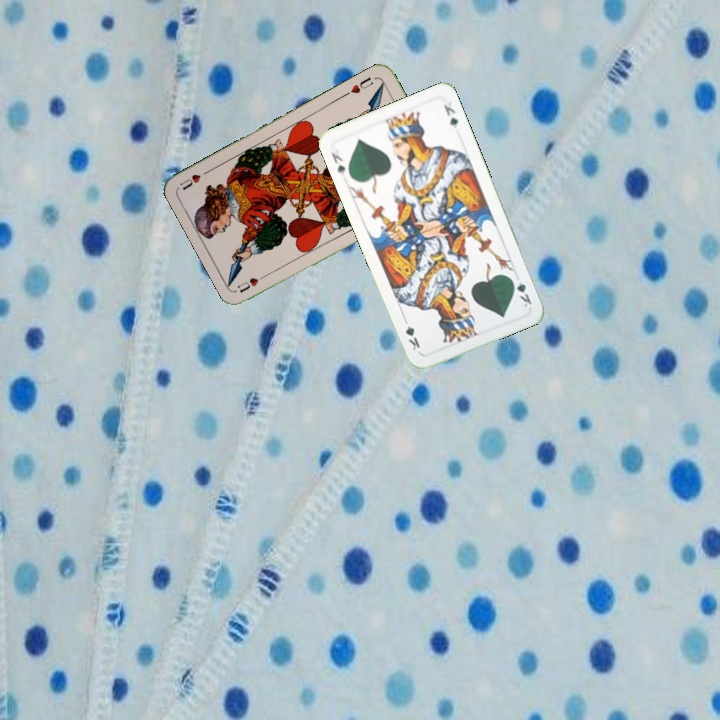GK: (507, 273, 534, 310), (327, 148, 348, 179)
HU: (233, 270, 271, 295), (341, 73, 376, 98)
